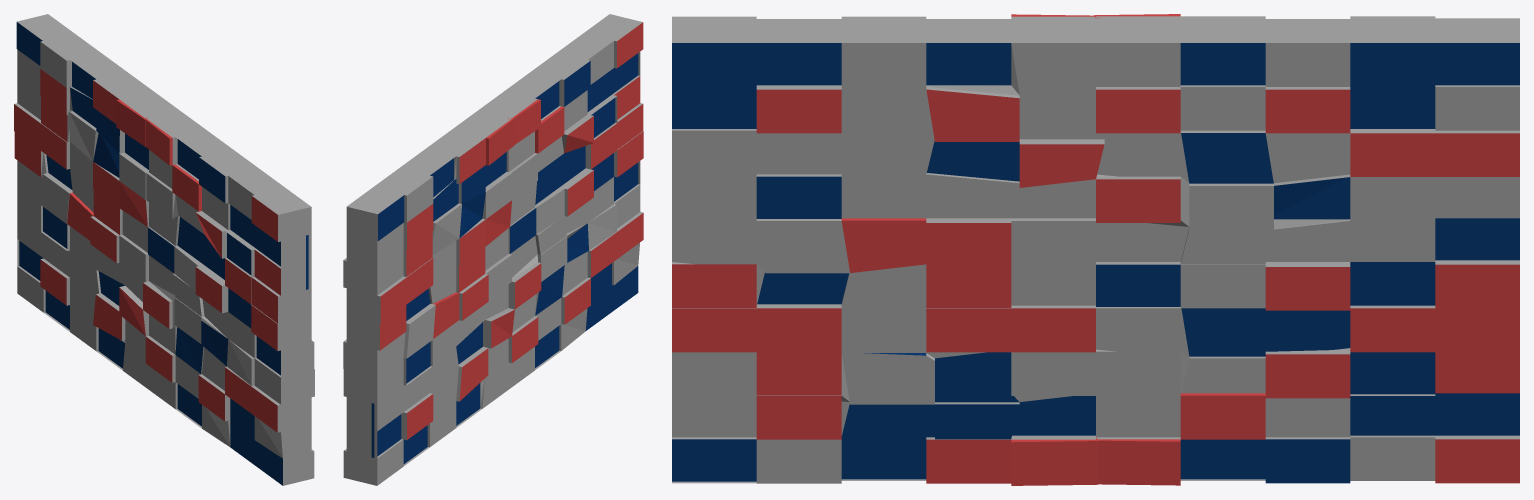
File: Wall2.fbx
The picture shows the model from 3 angles, left to right: view 1: azimuth 30°, elevation 25°; view 2: azimuth 150°, elevation 25°; view 3: azimuth 270°, elevation 25°; orthographic projection. The views are drawn at different scales.
Parts seen in each view (by area): view 1: pCube199; view 2: pCube199; view 3: pCube199.
Boxes of the visible parts, x1=… form: pCube199: x1=14, y1=14, x2=314, y2=485; pCube199: x1=343, y1=14, x2=643, y2=485; pCube199: x1=672, y1=14, x2=1519, y2=485.
Bounding box in the file's own units: 1.93 × 11.57 × 20.3.
